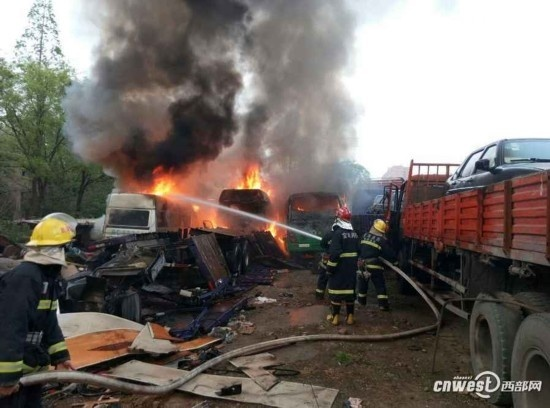fire: (235, 164, 266, 190), (150, 169, 178, 195)
